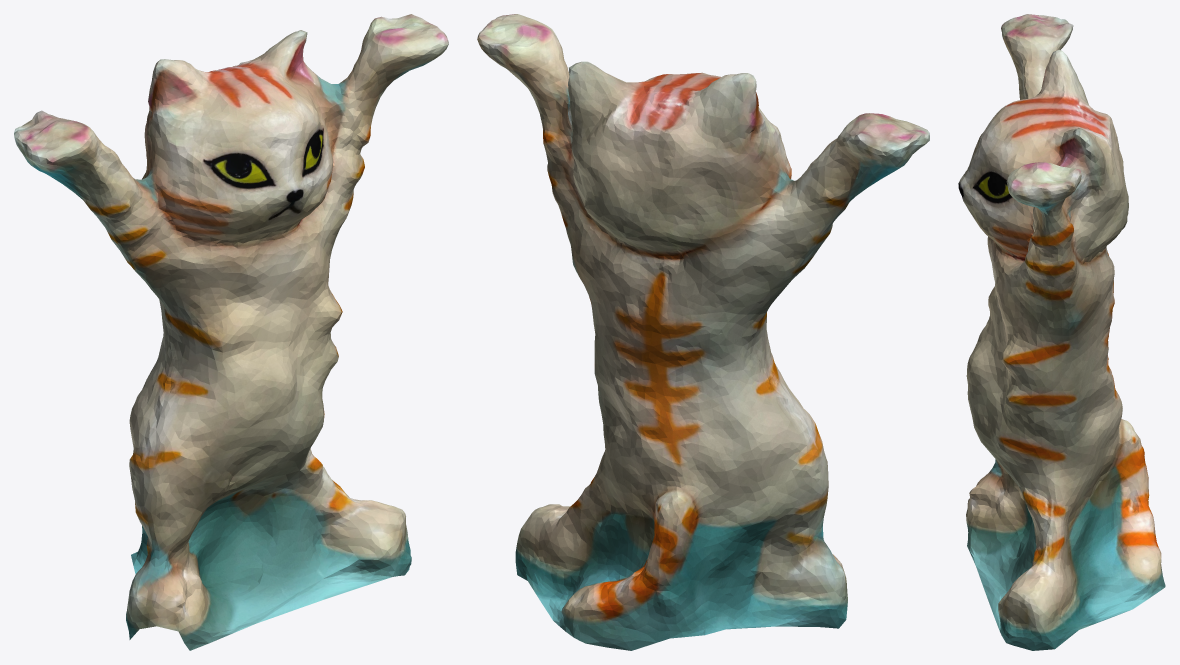
File: toy-cat.glb
3 views of the same model, side by side, from view 1: azimuth 30°, elevation 25°; view 2: azimuth 150°, elevation 25°; view 3: azimuth 270°, elevation 25° (orthographic). The views are drawn at different scales.
Size of the model in its own units: 0.1675 by 0.2098 by 0.0784.
1 material, 1 textured.
